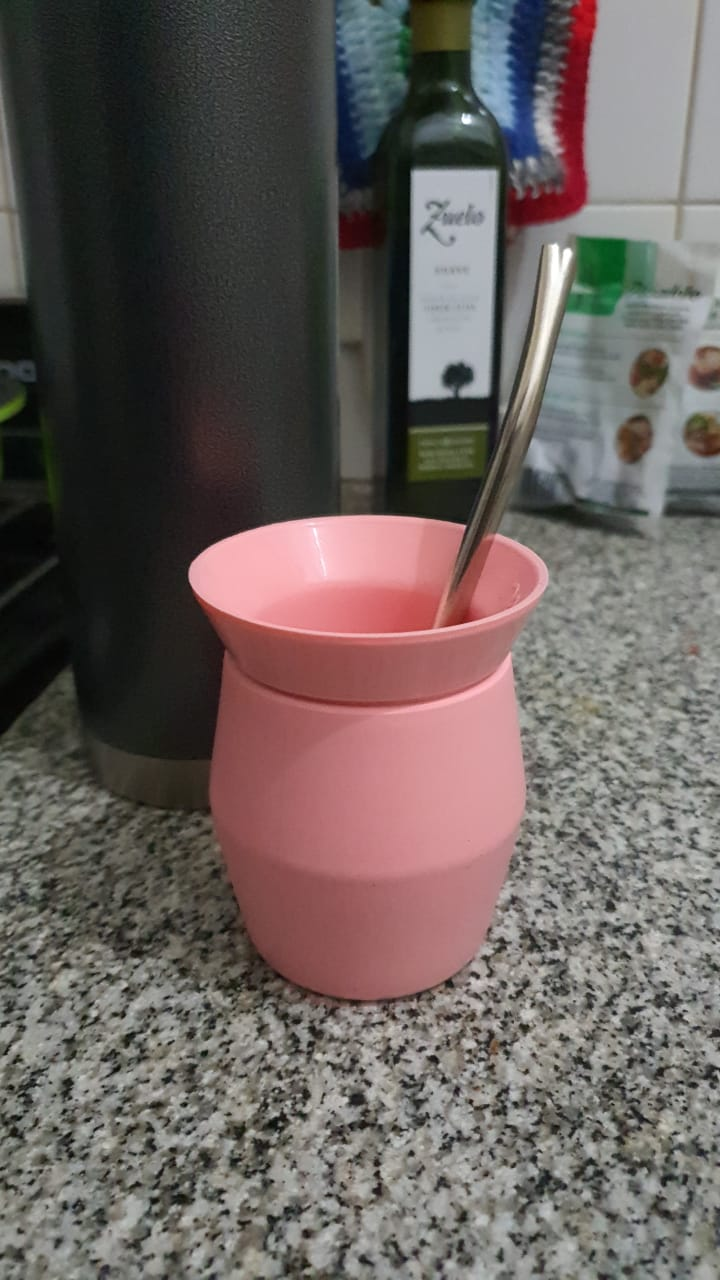mate: (168, 507, 576, 1003)
plastico: (168, 499, 564, 1027)
